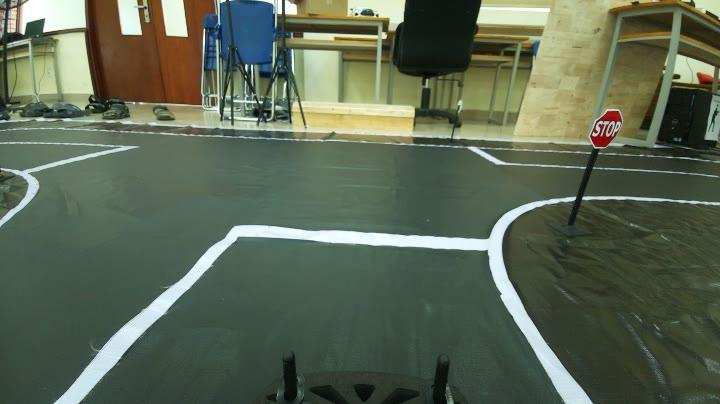stop: (580, 106, 630, 159)
